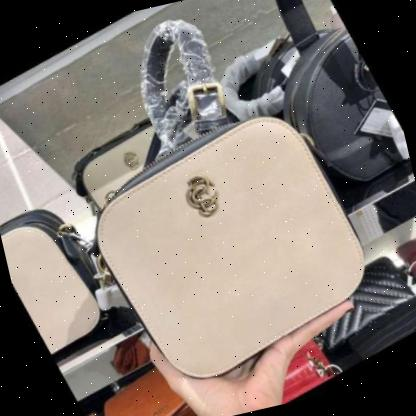bag: (41, 0, 392, 408)
